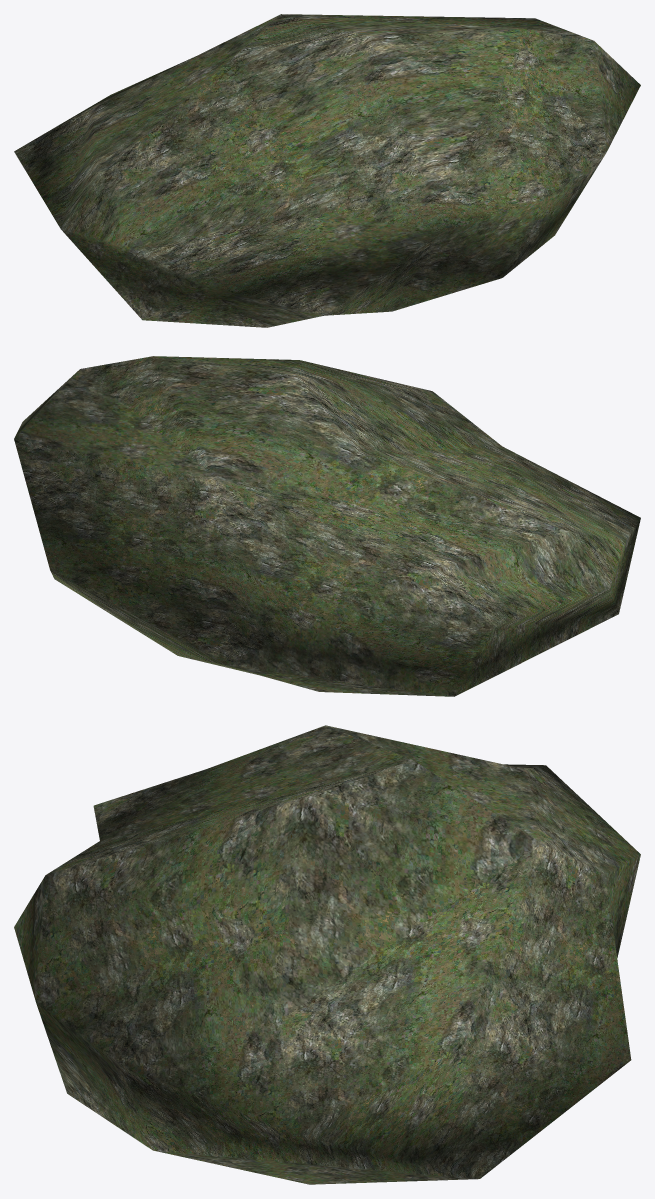
File: mtns_rock_moss_a2_l2.fbx
3 renders of one model, top to bottom at view 1: azimuth 30°, elevation 25°; view 2: azimuth 150°, elevation 25°; view 3: azimuth 270°, elevation 25°, orthographic. The views are drawn at different scales.
Parts seen in each view (by area): view 1: mesh_node; view 2: mesh_node; view 3: mesh_node.
Part boxes in pixels (x1,y1,x2,y2): mesh_node: [14, 14, 640, 327]; mesh_node: [14, 356, 640, 696]; mesh_node: [14, 725, 640, 1184].
Size of the model in its own units: 3.23 by 1.21 by 2.2.
